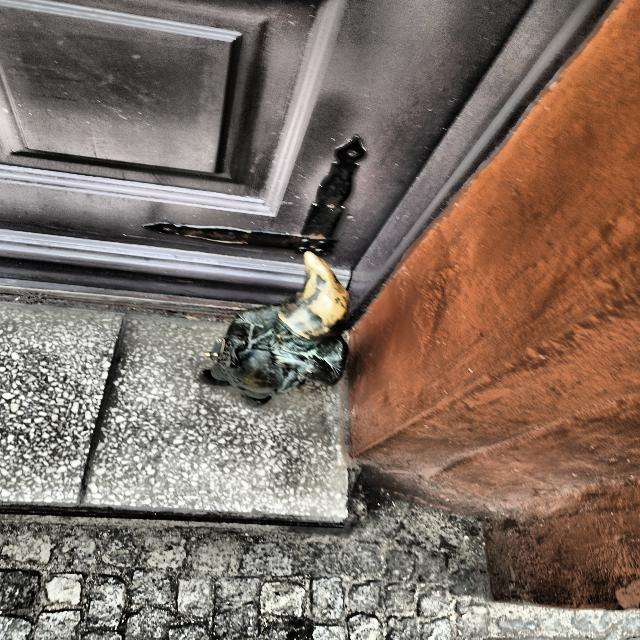TatuazystaKonstanty: (200, 251, 348, 406)
